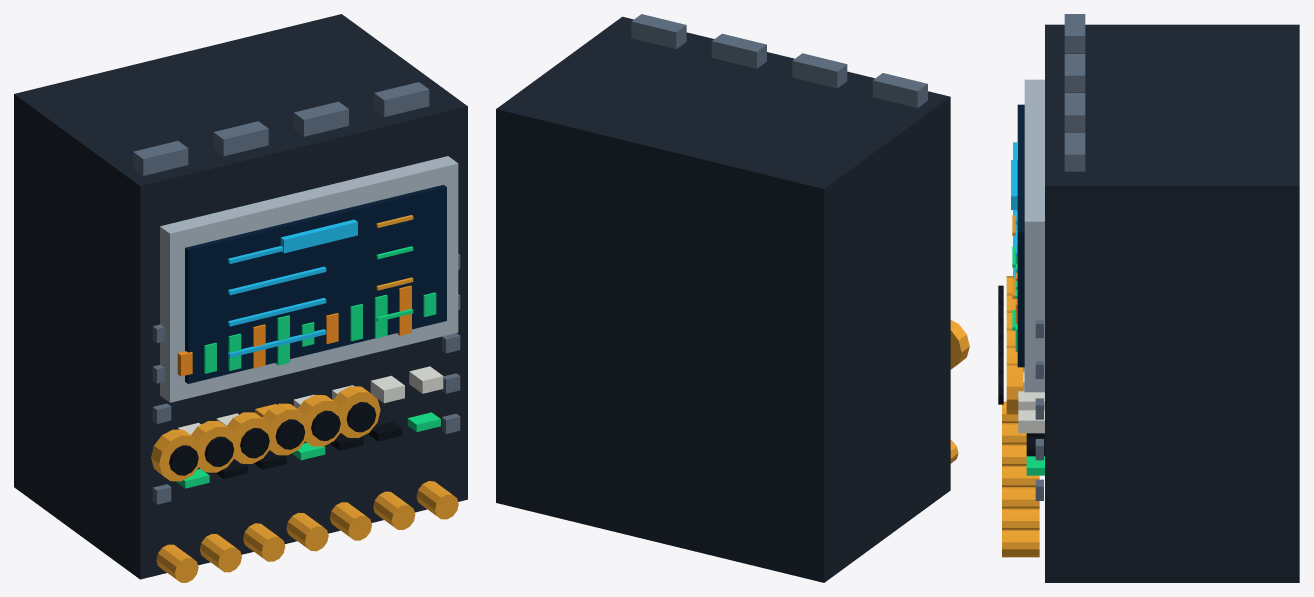
The model's file is 45_L87_VibrationFrequencySpectrumAnalyzer.fbx.
3 renders of one model, left to right at view 1: azimuth 30°, elevation 25°; view 2: azimuth 150°, elevation 25°; view 3: azimuth 270°, elevation 25°, orthographic.
Parts seen in each view (by area): view 1: L87_VibrationFrequencySpectrumAnalyzer, L87_VibrationFrequencySpectrumAnalyzer_Part_0009, L87_VibrationFrequencySpectrumAnalyzer_Part_0012, L87_VibrationFrequencySpectrumAnalyzer_Part_0011, L87_VibrationFrequencySpectrumAnalyzer_Part_0013, L87_VibrationFrequencySpectrumAnalyzer_Part_0010, L87_VibrationFrequencySpectrumAnalyzer_Part_0021, L87_VibrationFrequencySpectrumAnalyzer_Part_0019, L87_VibrationFrequencySpectrumAnalyzer_Part_0015, L87_VibrationFrequencySpectrumAnalyzer_Part_0017, L87_VibrationFrequencySpectrumAnalyzer_Part_0023, L87_VibrationFrequencySpectrumAnalyzer_Part_0020 (+5 smaller); view 2: L87_VibrationFrequencySpectrumAnalyzer, L87_VibrationFrequencySpectrumAnalyzer_Part_0009, L87_VibrationFrequencySpectrumAnalyzer_Part_0013; view 3: L87_VibrationFrequencySpectrumAnalyzer, L87_VibrationFrequencySpectrumAnalyzer_Part_0009, L87_VibrationFrequencySpectrumAnalyzer_Part_0023.
Part boxes in pixels (x1,y1,x2,y2): L87_VibrationFrequencySpectrumAnalyzer: (14,14,467,582); L87_VibrationFrequencySpectrumAnalyzer_Part_0009: (133,82,429,175); L87_VibrationFrequencySpectrumAnalyzer_Part_0012: (204,292,436,373); L87_VibrationFrequencySpectrumAnalyzer_Part_0011: (177,285,411,376); L87_VibrationFrequencySpectrumAnalyzer_Part_0013: (151,429,202,481); L87_VibrationFrequencySpectrumAnalyzer_Part_0010: (280,219,357,253); L87_VibrationFrequencySpectrumAnalyzer_Part_0021: (298,395,344,446); L87_VibrationFrequencySpectrumAnalyzer_Part_0019: (262,403,309,455); L87_VibrationFrequencySpectrumAnalyzer_Part_0015: (191,421,238,472); L87_VibrationFrequencySpectrumAnalyzer_Part_0017: (226,412,273,463); L87_VibrationFrequencySpectrumAnalyzer_Part_0023: (333,386,380,437); L87_VibrationFrequencySpectrumAnalyzer_Part_0020: (275,419,305,449); L87_VibrationFrequencySpectrumAnalyzer: (496,16,958,582); L87_VibrationFrequencySpectrumAnalyzer_Part_0009: (631,14,927,107); L87_VibrationFrequencySpectrumAnalyzer_Part_0013: (950,320,969,369); L87_VibrationFrequencySpectrumAnalyzer: (1002,24,1299,582); L87_VibrationFrequencySpectrumAnalyzer_Part_0009: (1064,14,1085,171); L87_VibrationFrequencySpectrumAnalyzer_Part_0023: (1006,363,1022,414).
Bounding box in the file's own units: 96.95 × 116 × 76.5.
